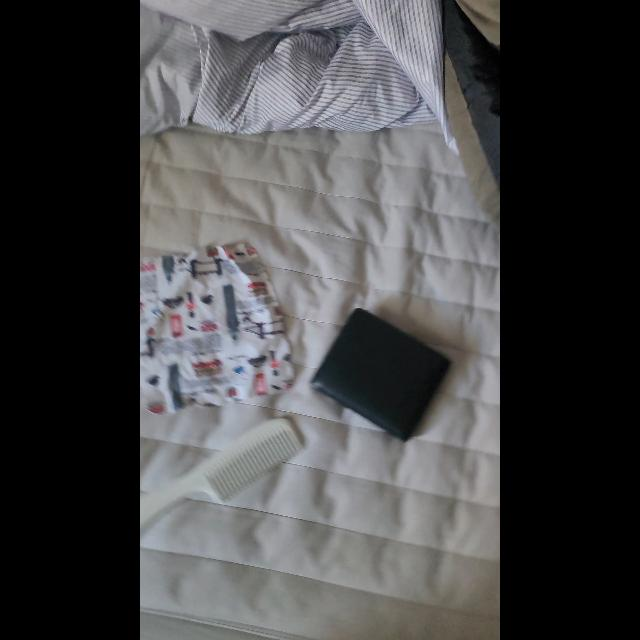COMB: (140, 418, 304, 540)
Glasses cleaning cloth: (140, 243, 296, 413)
WALLET: (310, 308, 452, 442)
